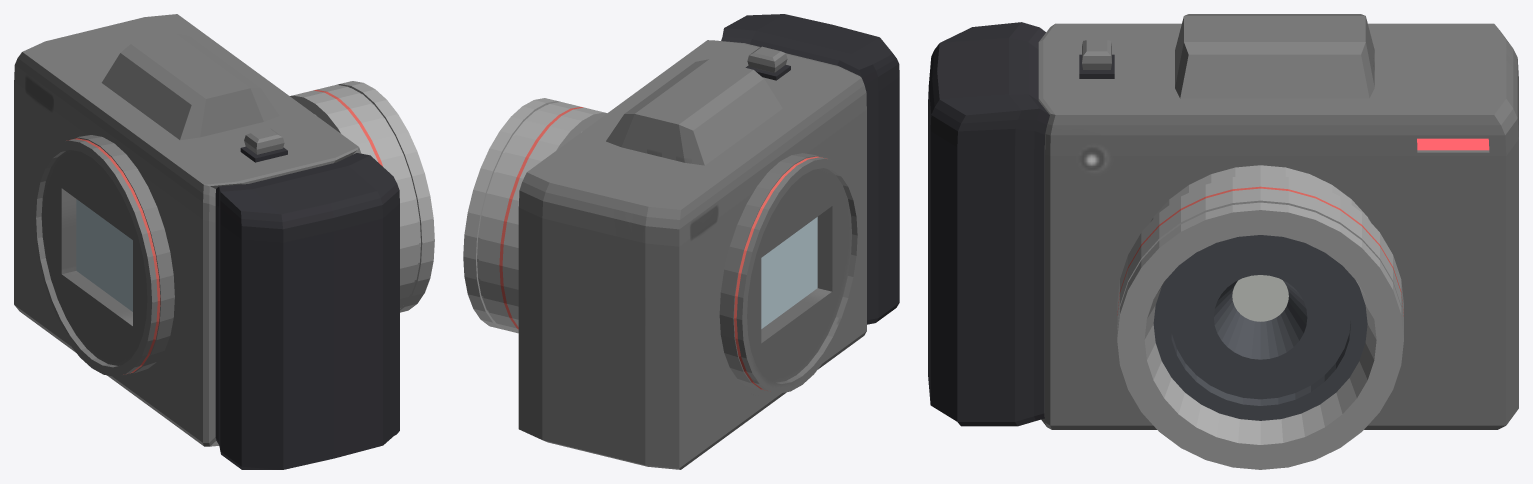
The model's file is Camera.fbx.
3 views of the same model, side by side, from view 1: azimuth 30°, elevation 25°; view 2: azimuth 150°, elevation 25°; view 3: azimuth 270°, elevation 25° (orthographic). The views are drawn at different scales.
Parts seen in each view (by area): view 1: Cylinder.006, Cylinder.005; view 2: Cylinder.006, Cylinder.005; view 3: Cylinder.006, Cylinder.005.
Boxes of the visible parts, x1,y1,x2,y2 form: Cylinder.006: (14, 14, 399, 469); Cylinder.005: (290, 81, 434, 312); Cylinder.006: (518, 14, 899, 469); Cylinder.005: (463, 98, 606, 333); Cylinder.006: (928, 14, 1518, 429); Cylinder.005: (1117, 165, 1403, 469).
Size of the model in its own units: 147 by 146 by 221.
8 materials, 1 textured.
